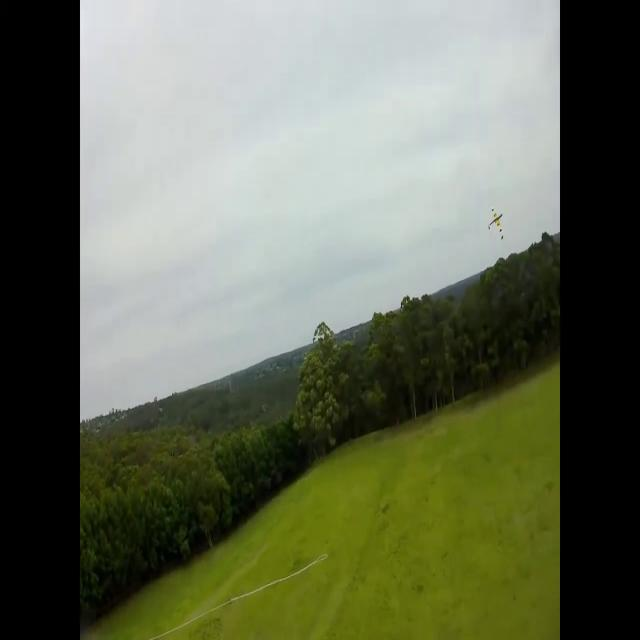iha: (488, 210, 504, 242)
